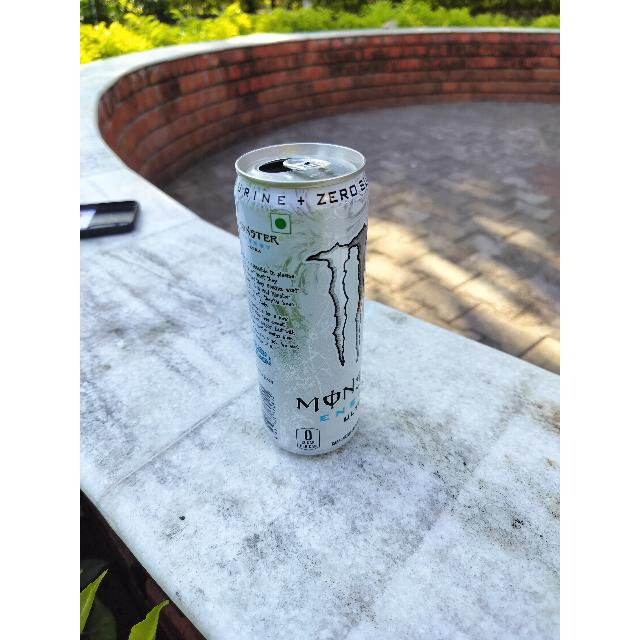White Monster: (226, 134, 380, 468)
